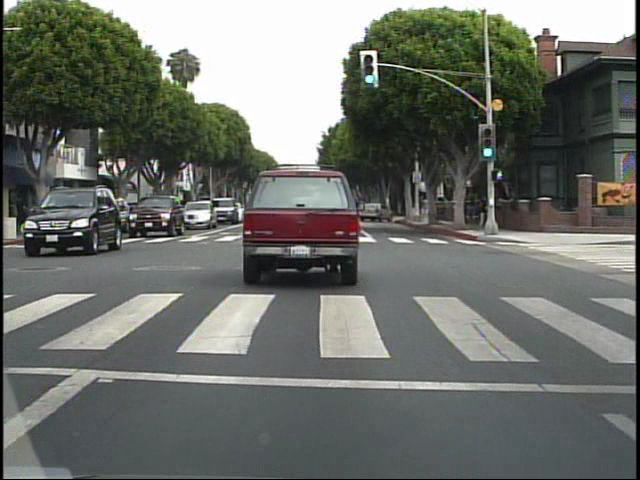car: (242, 163, 361, 284), (25, 179, 120, 253), (131, 195, 175, 236)
striscie pedonali: (5, 286, 632, 373), (358, 230, 485, 247), (126, 235, 236, 245)
